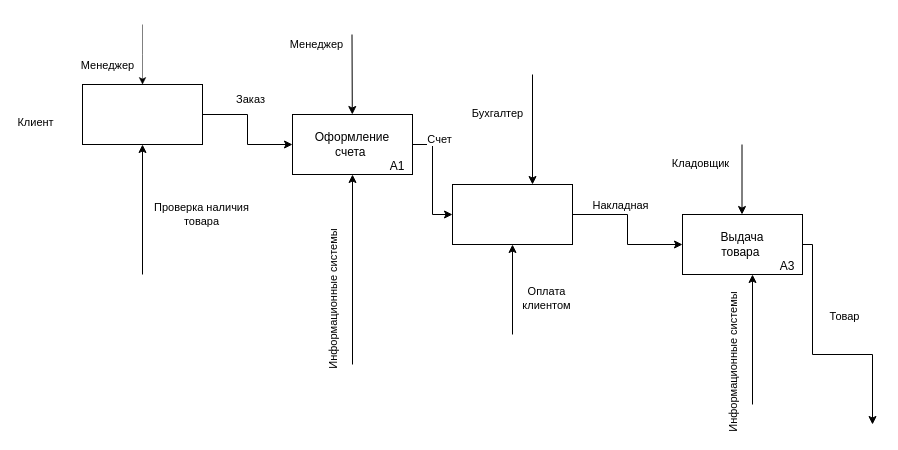
Image size: 898x450. Some labels were removed from this diagram. The shapes that lost their labels are listed below. From the top down, each one's centre as x and y in pixels, then its label:
(x=142, y=114): Оформление заказа А0
(x=512, y=214): Оформление накладных А2
